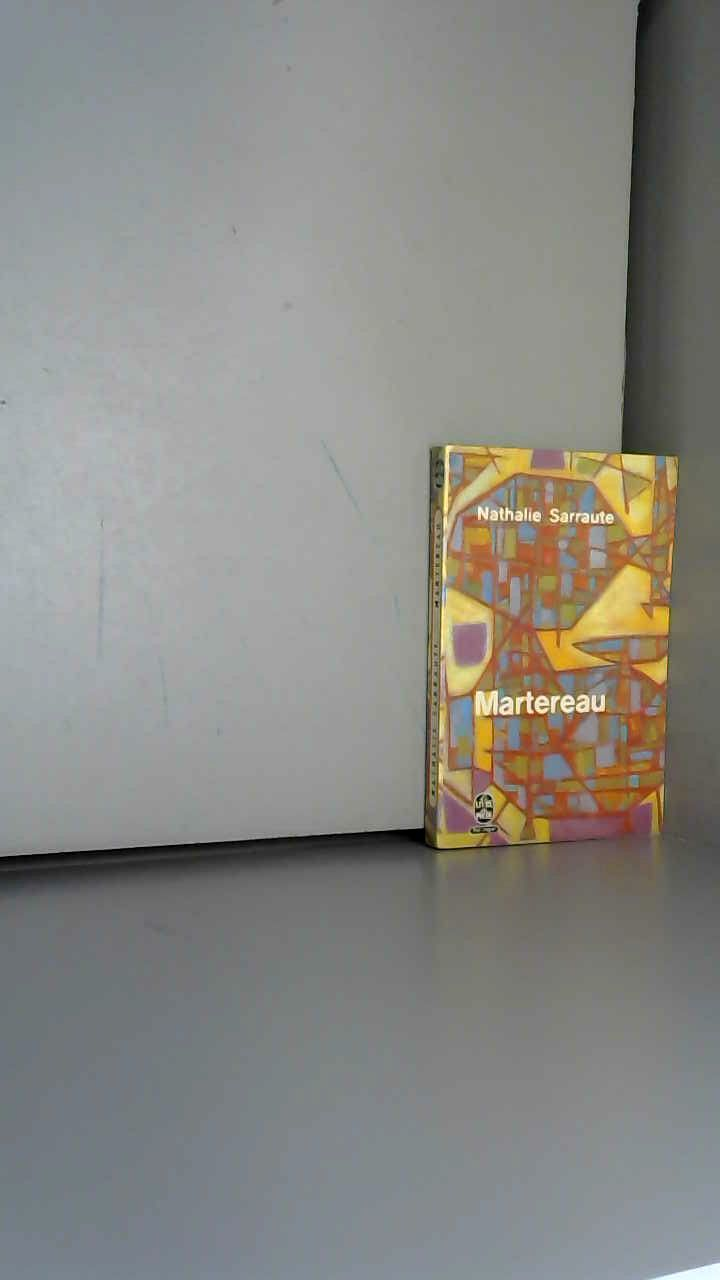book: (390, 410, 716, 865)
